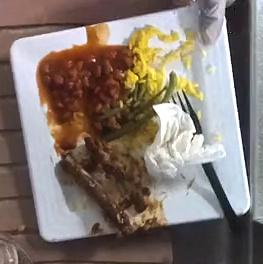beans: (39, 46, 135, 125)
green_beans: (100, 72, 177, 142)
rice: (124, 24, 193, 96)
